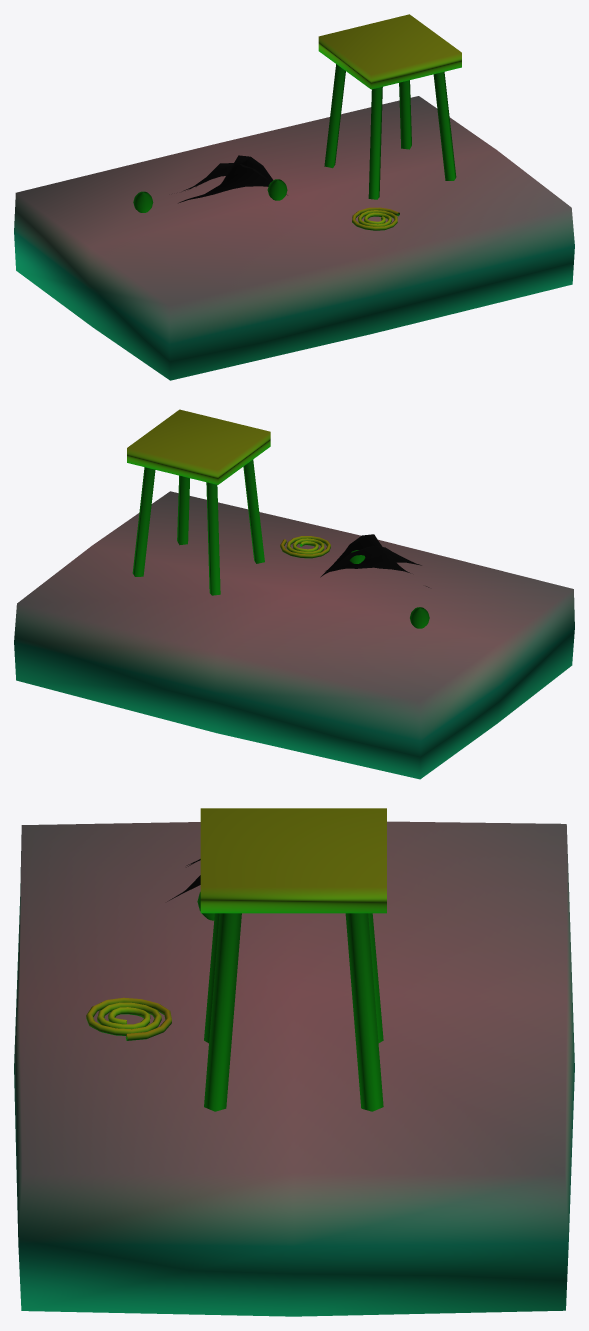
Rendered from marra_step.glb.
The picture shows the model from 3 angles, top to bottom: view 1: azimuth 30°, elevation 25°; view 2: azimuth 150°, elevation 25°; view 3: azimuth 270°, elevation 25°; orthographic projection. The views are drawn at different scales.
Visible parts, largest first — view 1: marra_step; view 2: marra_step; view 3: marra_step.
Boxes of the visible parts, bbox=[...] form: marra_step: bbox=[14, 14, 574, 380]; marra_step: bbox=[14, 409, 574, 779]; marra_step: bbox=[14, 808, 574, 1316].
Size of what is drawn, in the model's own units: 1.5 by 0.7497 by 0.9987.
